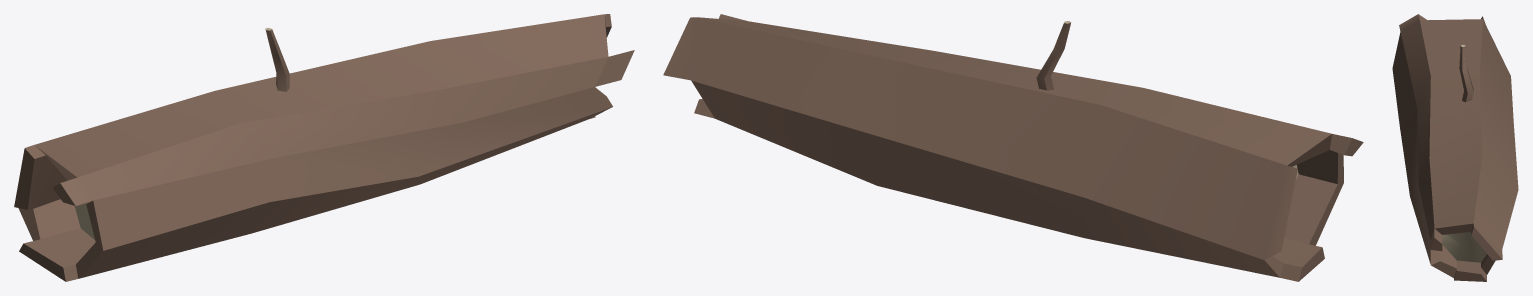
File: tree04.fbx
3 views of the same model, side by side, from view 1: azimuth 30°, elevation 25°; view 2: azimuth 150°, elevation 25°; view 3: azimuth 270°, elevation 25° (orthographic). The views are drawn at different scales.
Visible parts, largest first — view 1: polySurface16; view 2: polySurface16; view 3: polySurface16.
Boxes of the visible parts, x1,y1,x2,y2 form: polySurface16: [14, 14, 634, 281]; polySurface16: [663, 14, 1363, 281]; polySurface16: [1392, 14, 1518, 281].
Size of the model in its own units: 58.23 by 17.44 by 14.52.
